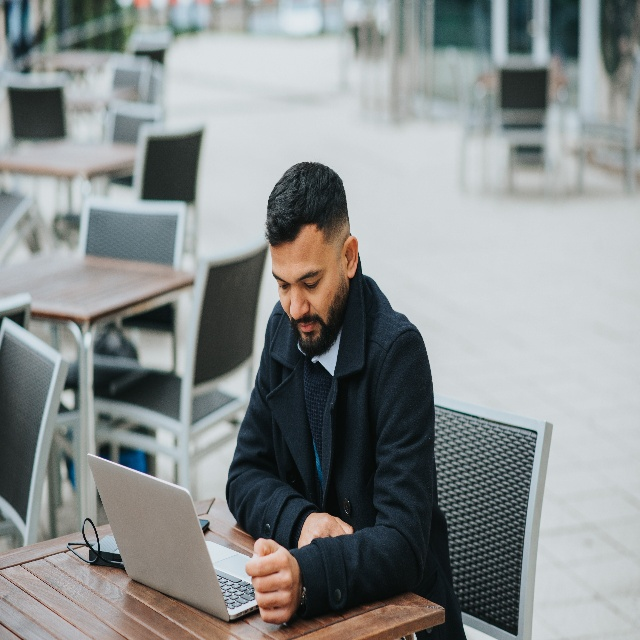Sin_guantes: (247, 538, 301, 624), (298, 514, 354, 542)
